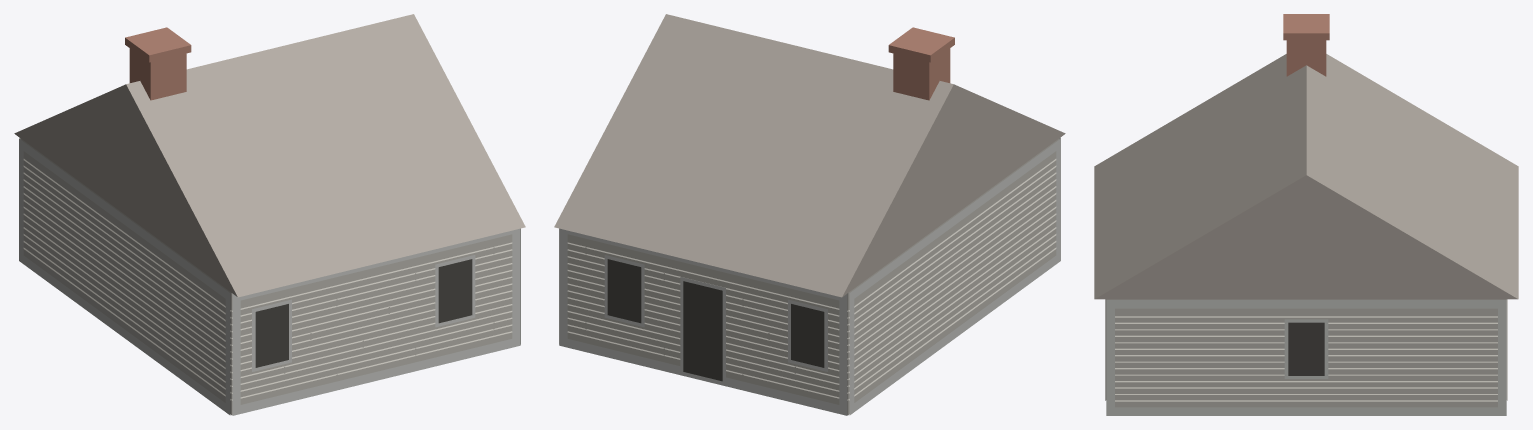
Rendered from recon_1835_west_032__inferred_1835.glb.
3 renders of one model, left to right at view 1: azimuth 30°, elevation 25°; view 2: azimuth 150°, elevation 25°; view 3: azimuth 270°, elevation 25°, orthographic. The views are drawn at different scales.
Parts seen in each view (by area): view 1: recon_1835_west_032__inferred_1835; view 2: recon_1835_west_032__inferred_1835; view 3: recon_1835_west_032__inferred_1835.
Boxes of the visible parts, bbox=[...] form: recon_1835_west_032__inferred_1835: bbox=[14, 14, 525, 415]; recon_1835_west_032__inferred_1835: bbox=[554, 14, 1065, 415]; recon_1835_west_032__inferred_1835: bbox=[1094, 14, 1518, 415].
Bounding box in the file's own units: 6.79 × 6.43 × 9.03.
